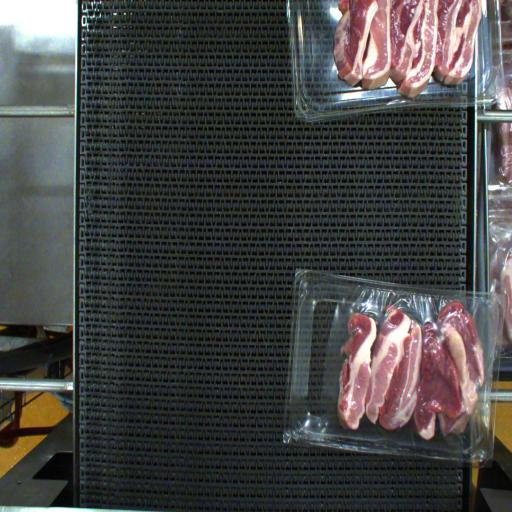unsealed: (313, 303, 499, 434)
